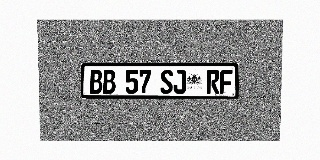5: (125, 70, 138, 94)
7: (138, 70, 151, 94)
B: (90, 70, 102, 94), (103, 70, 115, 94)
F: (220, 70, 233, 94)
J: (173, 70, 186, 94)
R: (207, 70, 219, 94)
S: (160, 70, 173, 94)
